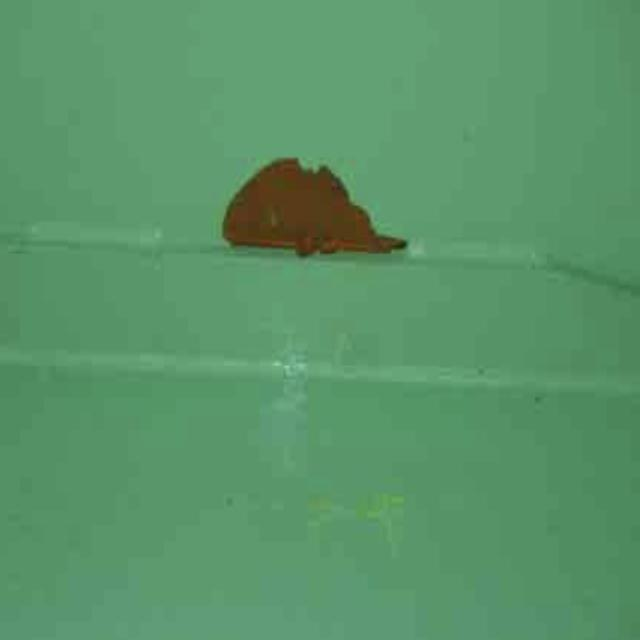corrosion: (220, 143, 410, 283)
